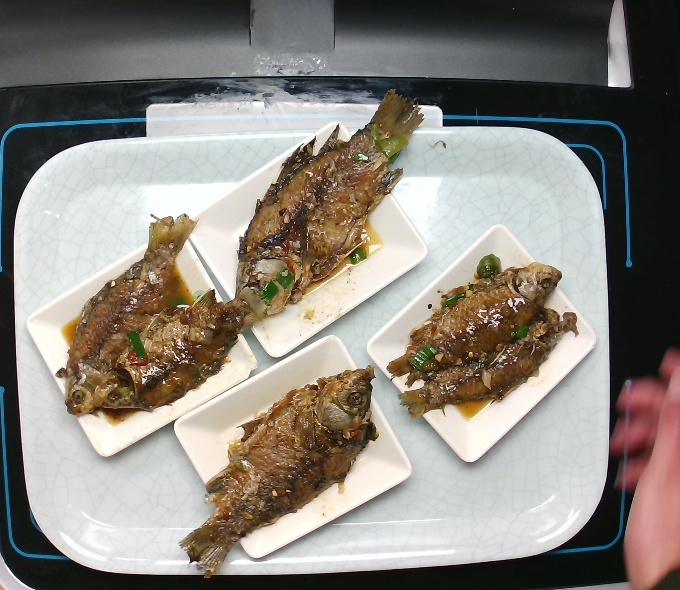wcq-JiYu: (219, 81, 436, 331), (170, 362, 387, 588), (50, 203, 242, 425), (383, 252, 587, 421)
